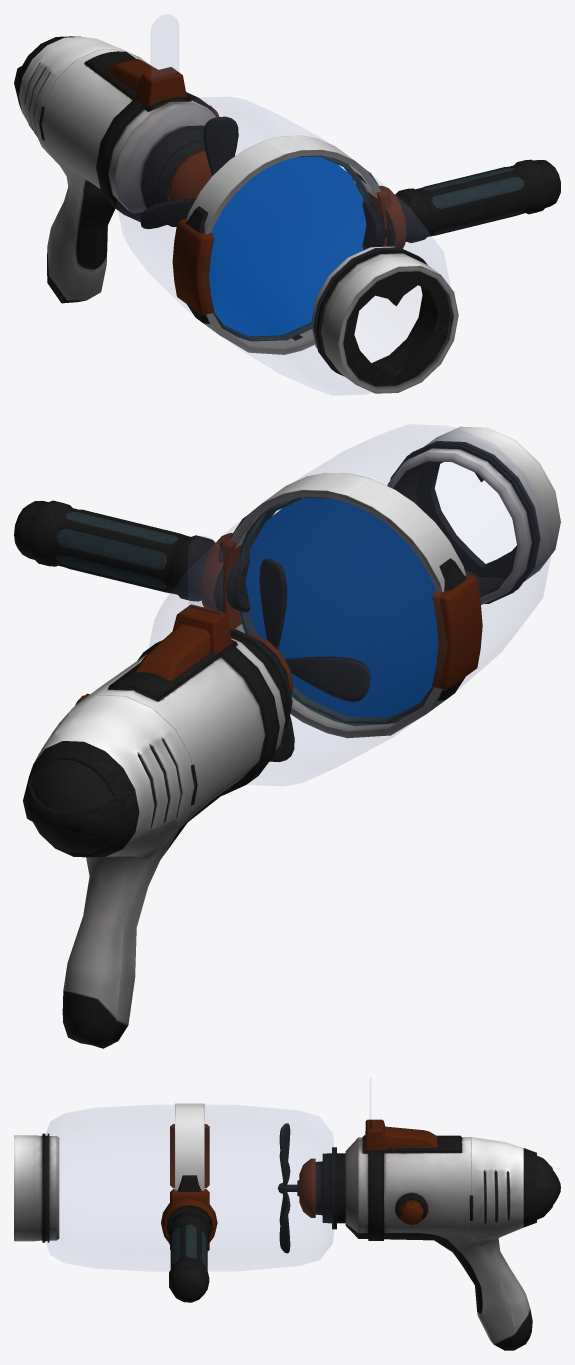
Rendered from BubbleBlaster.fbx.
The picture shows the model from 3 angles, top to bottom: view 1: azimuth 30°, elevation 25°; view 2: azimuth 150°, elevation 25°; view 3: azimuth 270°, elevation 25°; orthographic projection. The views are drawn at different scales.
Parts seen in each view (by area): view 1: BubbleBlaster_polySurface14, BubbleBlaster_SoapMesh, BubbleBlaster_Rig_polySurface5, BubbleBlaster_pCylinder14, BubbleBlaster_Rig_polySurface6, BubbleBlaster_polySurface8, BubbleBlaster_pCylinder11, BubbleBlaster_pCube21, BubbleBlaster_Fan, BubbleBlaster_Rig_polySurface7, BubbleBlaster_pCube2 (×2), BubbleBlaster_pCylinder15 (+5 smaller); view 2: BubbleBlaster_polySurface14, BubbleBlaster_SoapMesh, BubbleBlaster_pCylinder14, BubbleBlaster_Rig_polySurface5, BubbleBlaster_polySurface8, BubbleBlaster_Rig_polySurface6, BubbleBlaster_Fan, BubbleBlaster_pCube21, BubbleBlaster_Rig_polySurface7, BubbleBlaster_pCylinder15, BubbleBlaster_pCube2 (×2), BubbleBlaster_pCube1 (+5 smaller); view 3: BubbleBlaster_pCylinder14, BubbleBlaster_polySurface14, BubbleBlaster_Rig_polySurface5, BubbleBlaster_pCylinder11, BubbleBlaster_Rig_polySurface6, BubbleBlaster_polySurface8, BubbleBlaster_pCylinder15, BubbleBlaster_Fan, BubbleBlaster_pCube2 (×2), BubbleBlaster_pCylinder13, BubbleBlaster_pCube1, BubbleBlaster_polySurface12 (+4 smaller).
Boxes of the visible parts, box(x1,y1,x2,y2) form: BubbleBlaster_polySurface14: box(14, 36, 216, 303); BubbleBlaster_SoapMesh: box(209, 156, 366, 336); BubbleBlaster_Rig_polySurface5: box(311, 246, 458, 393); BubbleBlaster_pCylinder14: box(117, 97, 449, 395); BubbleBlaster_Rig_polySurface6: box(395, 159, 560, 242); BubbleBlaster_polySurface8: box(186, 135, 380, 354); BubbleBlaster_pCylinder11: box(140, 125, 211, 226); BubbleBlaster_pCube21: box(172, 219, 214, 315); BubbleBlaster_Fan: box(140, 116, 238, 229); BubbleBlaster_Rig_polySurface7: box(423, 167, 524, 234); BubbleBlaster_pCube2 (×2): box(135, 67, 391, 246); BubbleBlaster_pCylinder15: box(96, 92, 217, 221); BubbleBlaster_polySurface14: box(23, 638, 285, 1048); BubbleBlaster_SoapMesh: box(245, 498, 438, 717); BubbleBlaster_pCylinder14: box(149, 424, 550, 785); BubbleBlaster_Rig_polySurface5: box(387, 426, 560, 604); BubbleBlaster_polySurface8: box(231, 472, 465, 738); BubbleBlaster_Rig_polySurface6: box(14, 500, 215, 601); BubbleBlaster_Fan: box(259, 558, 370, 761); BubbleBlaster_pCube21: box(432, 574, 482, 690); BubbleBlaster_Rig_polySurface7: box(56, 512, 178, 588); BubbleBlaster_pCylinder15: box(137, 640, 279, 795); BubbleBlaster_pCube2 (×2): box(172, 536, 257, 653); BubbleBlaster_pCube1: box(135, 624, 210, 680); BubbleBlaster_pCylinder14: box(46, 1105, 333, 1270); BubbleBlaster_polySurface14: box(345, 1137, 560, 1350); BubbleBlaster_Rig_polySurface5: box(14, 1133, 59, 1242); BubbleBlaster_pCylinder11: box(299, 1147, 345, 1229); BubbleBlaster_Rig_polySurface6: box(169, 1211, 209, 1302); BubbleBlaster_polySurface8: box(175, 1103, 204, 1190); BubbleBlaster_pCylinder15: box(368, 1151, 383, 1240); BubbleBlaster_Fan: box(277, 1123, 299, 1253); BubbleBlaster_pCube2 (×2): box(170, 1119, 387, 1250); BubbleBlaster_pCylinder13: box(161, 1199, 217, 1244); BubbleBlaster_pCube1: box(384, 1126, 437, 1147); BubbleBlaster_polySurface12: box(362, 1135, 461, 1153).
Bounding box in the file's own units: 4.38 × 3.96 × 7.31.
